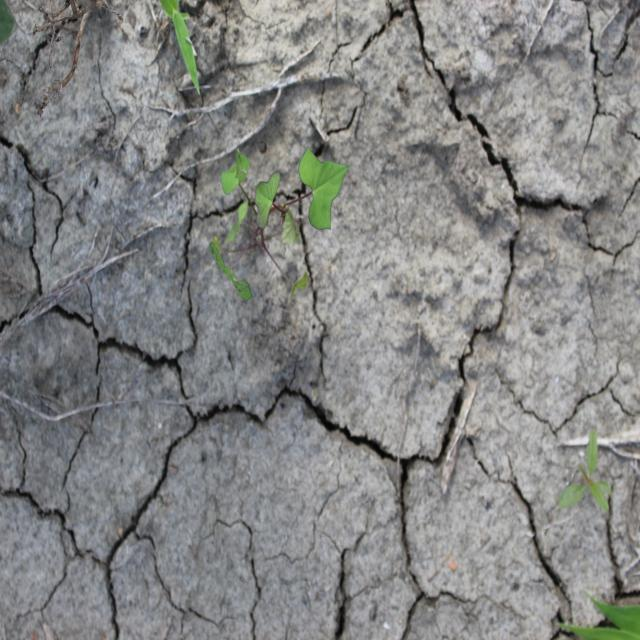MorningGlory: (208, 144, 352, 304)
Waterhemp: (557, 432, 614, 514)
